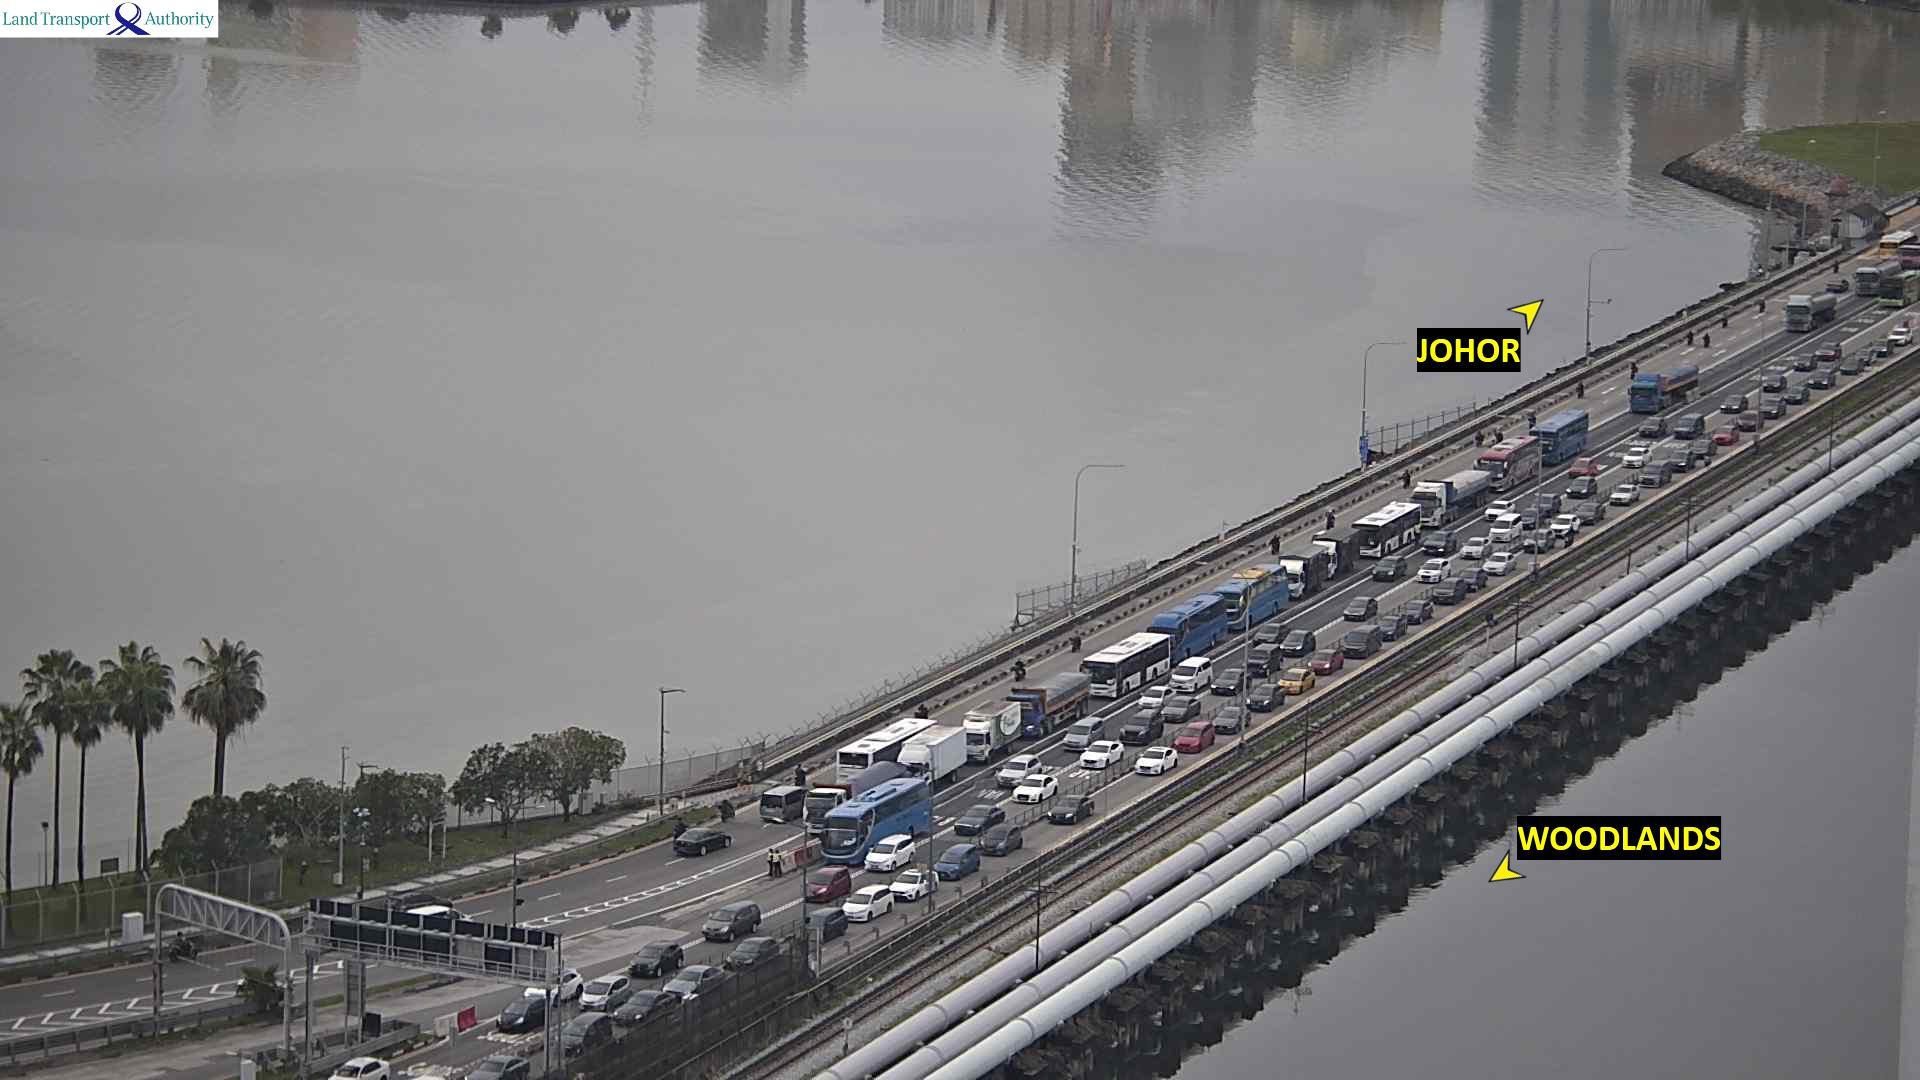vehicle-causeway-johor: (835, 721, 935, 785), (762, 785, 801, 821), (677, 830, 731, 855), (387, 891, 451, 908), (169, 931, 198, 961), (410, 908, 471, 919), (1824, 276, 1847, 292), (1067, 630, 1082, 654), (1011, 658, 1027, 677), (721, 798, 734, 819), (1326, 506, 1336, 527), (1271, 534, 1281, 554), (1576, 380, 1586, 399), (916, 703, 929, 717), (1756, 298, 1767, 314), (1527, 407, 1536, 426), (1402, 469, 1409, 487), (1722, 312, 1729, 326), (1632, 360, 1638, 376), (1831, 258, 1838, 271), (1704, 333, 1710, 346), (1688, 330, 1694, 342)
vehicle-causeway-singapore: (814, 786, 932, 854), (805, 760, 912, 814), (1081, 634, 1173, 687), (1147, 594, 1223, 656), (1219, 567, 1285, 627), (899, 726, 967, 784), (1007, 677, 1093, 722), (1416, 473, 1501, 515), (962, 701, 1022, 759), (1352, 504, 1434, 545), (1474, 438, 1539, 487), (1530, 411, 1590, 461), (1622, 368, 1696, 408), (701, 902, 769, 939), (1312, 529, 1360, 578), (1855, 260, 1914, 299), (1281, 547, 1326, 595), (661, 965, 727, 996), (524, 969, 584, 1002), (629, 943, 686, 975), (1786, 295, 1838, 328), (839, 889, 896, 918), (465, 1055, 530, 1080), (729, 938, 784, 967), (948, 810, 1005, 836), (327, 1057, 391, 1080), (1001, 756, 1050, 785), (1043, 800, 1097, 826), (1171, 657, 1212, 691), (495, 1000, 544, 1028), (1880, 272, 1920, 306), (1064, 718, 1106, 750), (1016, 775, 1065, 802), (1340, 626, 1381, 656), (932, 855, 979, 881), (806, 868, 848, 897), (803, 910, 846, 938), (1077, 745, 1127, 769), (891, 875, 938, 899), (1367, 558, 1412, 583), (863, 848, 914, 870), (571, 991, 625, 1011), (972, 832, 1021, 854), (1249, 644, 1281, 675), (1136, 754, 1181, 776), (1122, 723, 1165, 746), (1172, 728, 1214, 749), (1156, 705, 1204, 723), (1277, 635, 1318, 656), (1274, 670, 1317, 690), (1136, 685, 1175, 707), (1423, 535, 1462, 556), (1212, 713, 1255, 732), (1389, 604, 1432, 622), (1413, 565, 1453, 584), (1489, 514, 1522, 537), (1485, 552, 1518, 575), (1214, 682, 1258, 699), (1244, 693, 1285, 711), (1443, 576, 1489, 592), (1521, 531, 1553, 553), (1345, 597, 1377, 619), (1310, 651, 1343, 672), (1253, 624, 1289, 643), (1721, 395, 1752, 416), (1605, 487, 1642, 504), (1672, 420, 1708, 437), (1462, 538, 1491, 559), (1577, 503, 1606, 523), (1616, 447, 1651, 463), (1567, 478, 1598, 496), (1617, 454, 1652, 469), (1551, 515, 1580, 533), (1381, 618, 1407, 638), (1635, 472, 1666, 487), (1643, 416, 1665, 437), (1569, 459, 1595, 476), (1524, 505, 1544, 527), (1761, 398, 1784, 417), (1709, 431, 1740, 445), (1812, 368, 1836, 386), (1732, 418, 1761, 432), (1890, 327, 1911, 346), (1671, 449, 1692, 468), (1839, 363, 1872, 375), (1786, 386, 1808, 403), (1818, 342, 1841, 358), (1868, 350, 1898, 362), (1764, 374, 1784, 392), (1555, 516, 1579, 531), (1794, 352, 1814, 369), (1541, 493, 1560, 510)
